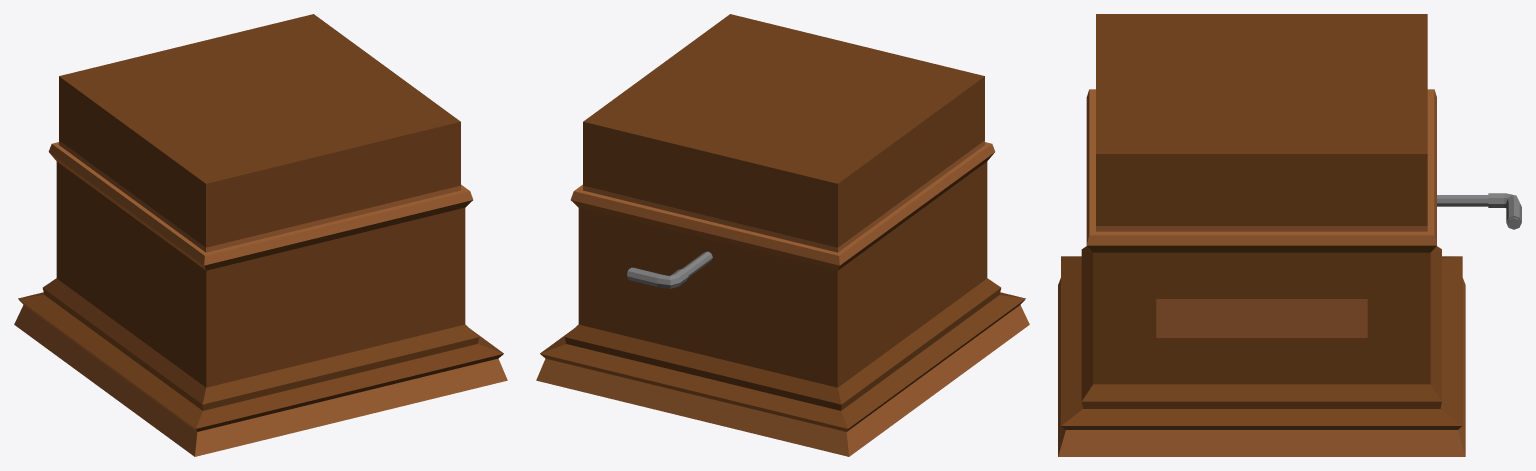
Rendered from Musicbox.fbx.
The picture shows the model from 3 angles, left to right: view 1: azimuth 30°, elevation 25°; view 2: azimuth 150°, elevation 25°; view 3: azimuth 270°, elevation 25°; orthographic projection. The views are drawn at different scales.
Visible parts, largest first — view 1: Musicbox, MB-Lid; view 2: Musicbox, MB-Lid, MB-Spin; view 3: Musicbox, MB-Lid, MB-Spin.
Boxes of the visible parts, x1=… form: Musicbox: x1=14, y1=142, x2=507, y2=456; MB-Lid: x1=59, y1=14, x2=460, y2=252; Musicbox: x1=536, y1=142, x2=1029, y2=456; MB-Lid: x1=583, y1=14, x2=984, y2=252; MB-Spin: x1=627, y1=251, x2=712, y2=288; Musicbox: x1=1058, y1=89, x2=1465, y2=456; MB-Lid: x1=1096, y1=14, x2=1427, y2=231; MB-Spin: x1=1437, y1=193, x2=1521, y2=229.
Size of the model in its own units: 246 by 190 by 280.
